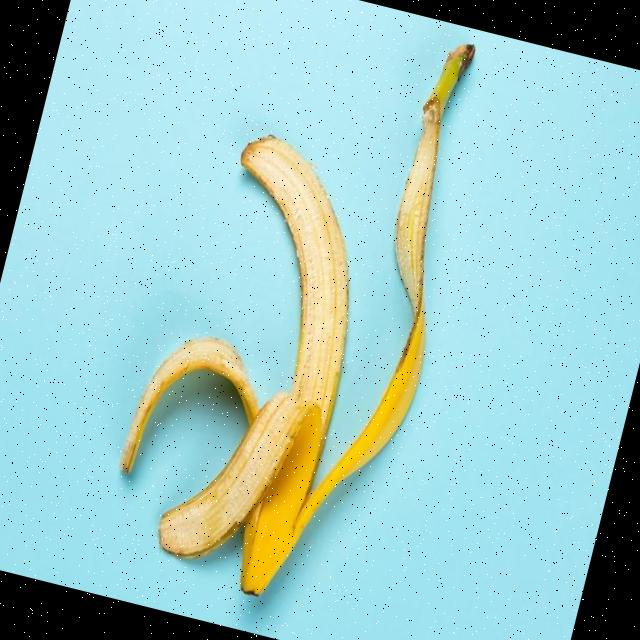banana-peel: (96, 115, 396, 602)
